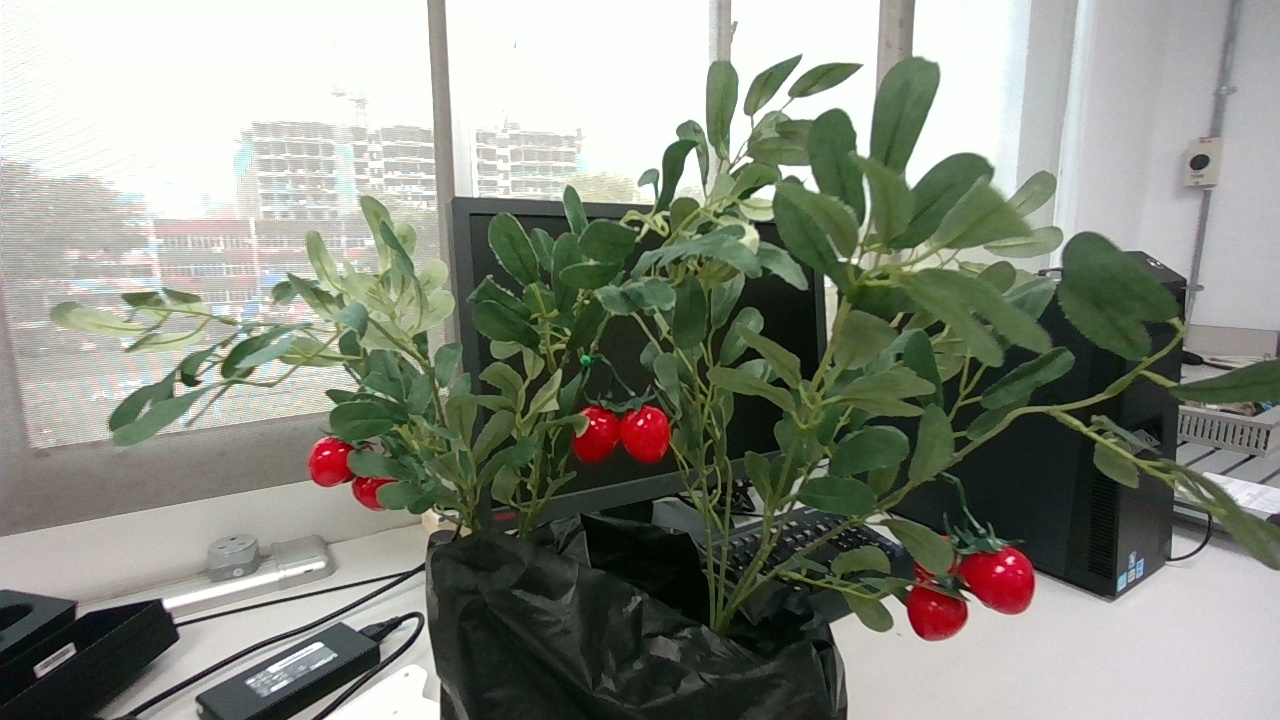peduncle: (943, 472, 967, 507), (599, 355, 616, 374)
strawberry: (960, 546, 1037, 615), (909, 586, 970, 642), (620, 404, 671, 464), (572, 405, 621, 463), (307, 436, 353, 487), (351, 478, 393, 510)
